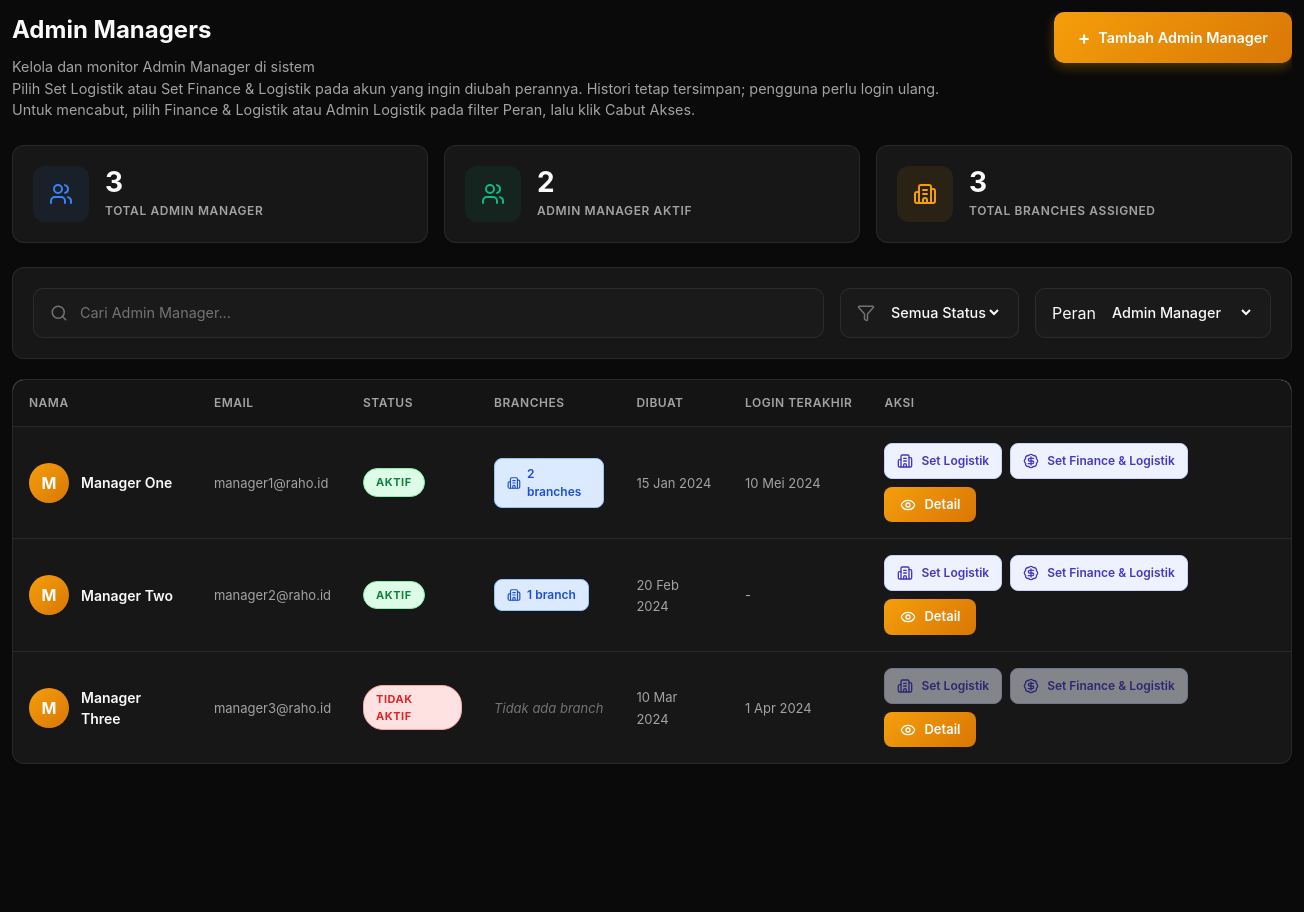
Test: AdminManagersTab › Stats Cards › should update stats when data changes
Expected: the text "Total Admin Manager" shows "3", [105, 165, 123, 199]
# Trigger a re-fetch by changing search
Step 1. Type "Manager One" into the field with placeholder "Cari Admin Manager..." → (444, 313), box [80, 302, 807, 324]
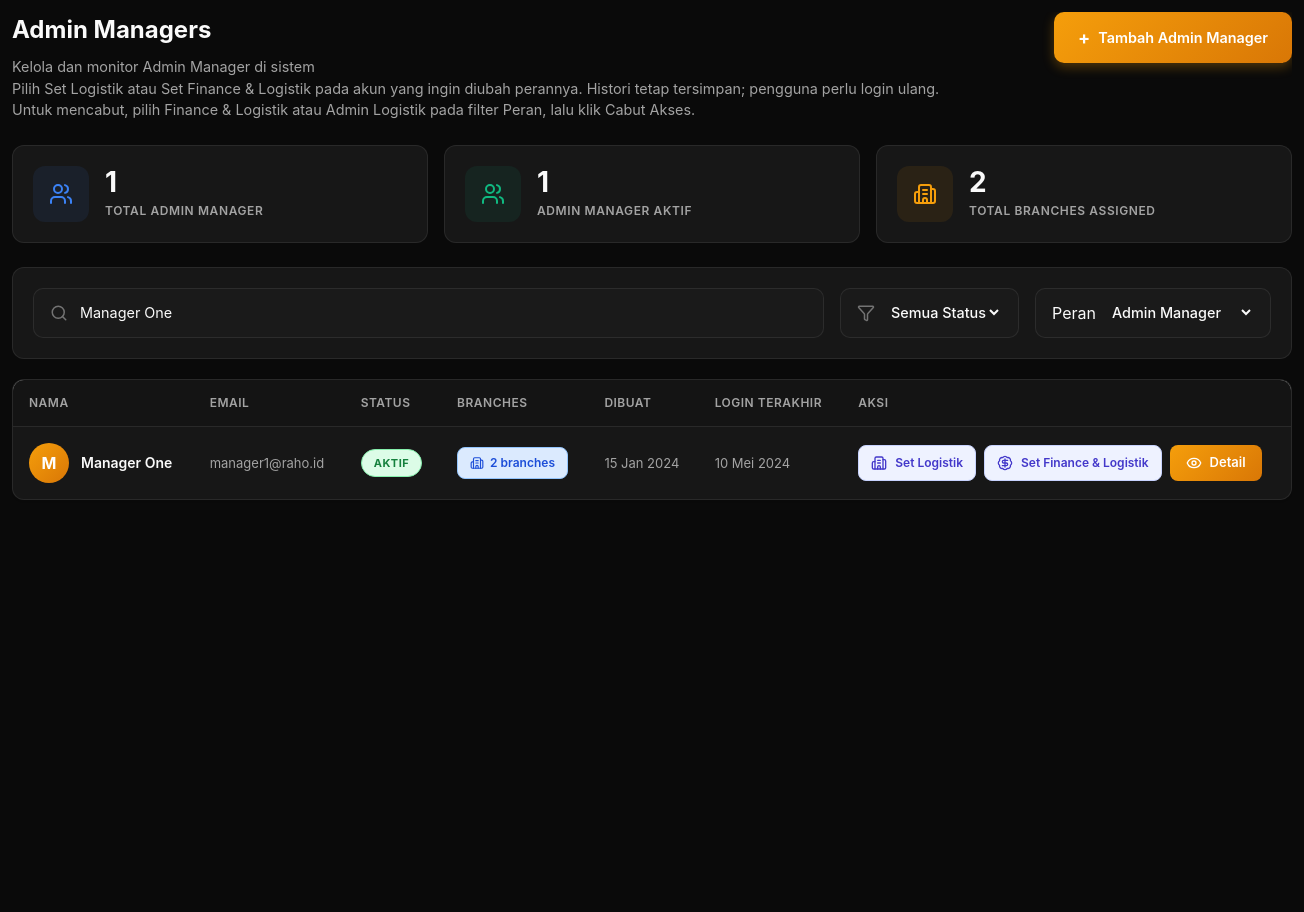
Result: the text "Total Admin Manager" shows "1" at [105, 165, 117, 199]
